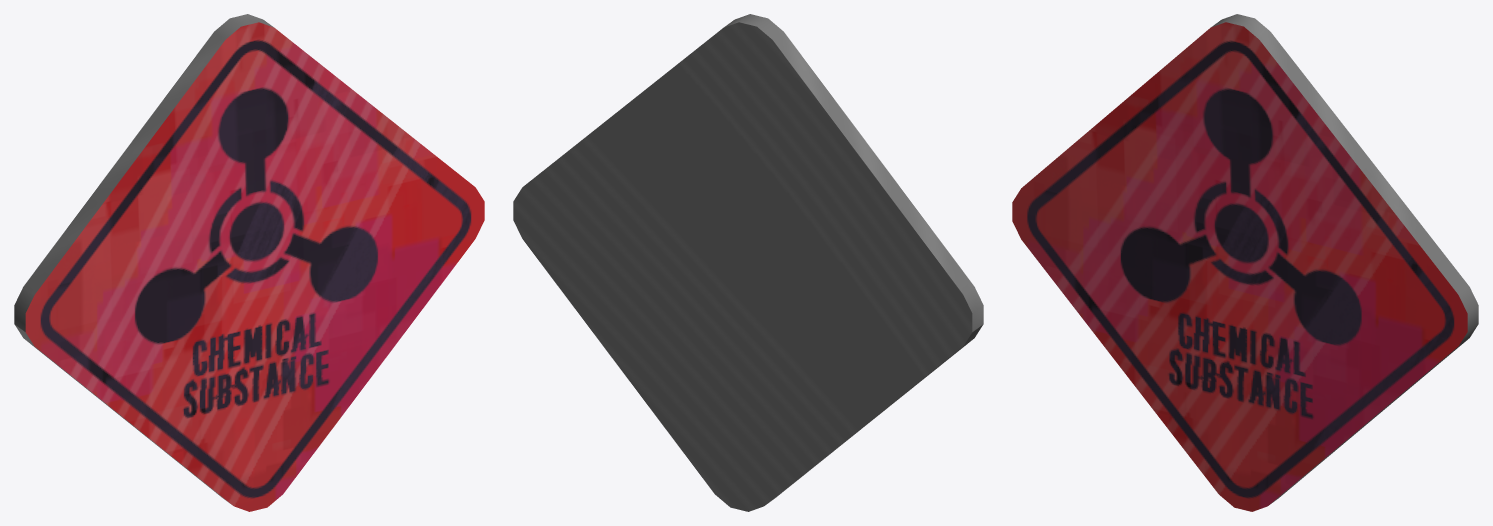
Rendered from SM_Panneau_03.fbx.
3 renders of one model, left to right at view 1: azimuth 30°, elevation 25°; view 2: azimuth 150°, elevation 25°; view 3: azimuth 330°, elevation 25°, orthographic.
Parts seen in each view (by area): view 1: SM_Panneau_03; view 2: SM_Panneau_03; view 3: SM_Panneau_03.
Part boxes in pixels (x1,y1,x2,y2): SM_Panneau_03: [14, 14, 484, 511]; SM_Panneau_03: [513, 14, 983, 511]; SM_Panneau_03: [1012, 14, 1478, 511].
Size of the model in its own units: 0.6552 by 0.6648 by 0.0278.
